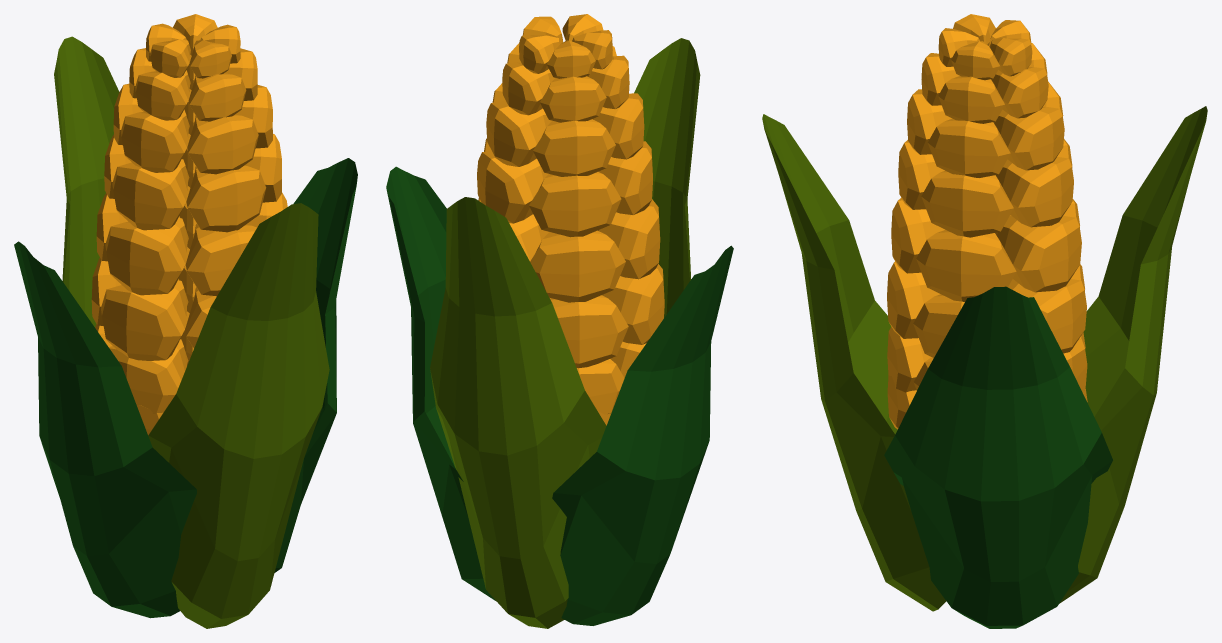
The model's file is corn.fbx.
The picture shows the model from 3 angles, left to right: view 1: azimuth 30°, elevation 25°; view 2: azimuth 150°, elevation 25°; view 3: azimuth 270°, elevation 25°; orthographic projection.
Visible parts, largest first — view 1: Cylinder.001, Cylinder, Cube.034, Cube.004, Cube.022, Cube.024, Cube.012, Cube.014, Cube.001, Cube.044, Cube.052, Cube.054 (+15 smaller); view 2: Cylinder.001, Cylinder, Cube.006, Cube.026, Cube.036, Cube.016, Cube.028, Cube.018, Cube.034, Cube.004, Cube.056, Cube.024 (+11 smaller); view 3: Cylinder, Cylinder.001, Cube.010, Cube.008, Cube.030, Cube.028, Cube.020, Cube.018, Cube.038, Cube.060, Cube.032, Cube.001 (+13 smaller).
Boxes of the visible parts, x1,y1,x2,y2 form: Cylinder.001: [54, 36, 329, 628]; Cylinder: [14, 158, 357, 618]; Cube.034: [101, 280, 188, 360]; Cube.004: [105, 218, 188, 295]; Cube.022: [186, 165, 266, 232]; Cube.024: [112, 159, 189, 230]; Cube.012: [187, 114, 258, 174]; Cube.014: [120, 109, 189, 172]; Cube.001: [185, 224, 256, 296]; Cube.044: [108, 339, 188, 413]; Cube.052: [188, 73, 246, 121]; Cube.054: [135, 70, 190, 120]; Cylinder.001: [430, 38, 700, 628]; Cylinder: [386, 166, 733, 625]; Cube.006: [530, 230, 625, 302]; Cube.026: [529, 172, 621, 237]; Cube.036: [550, 295, 628, 368]; Cube.016: [533, 119, 615, 176]; Cube.028: [477, 151, 548, 223]; Cube.018: [486, 101, 551, 166]; Cube.034: [602, 264, 664, 344]; Cube.004: [598, 199, 660, 279]; Cube.056: [540, 76, 606, 122]; Cube.024: [598, 141, 652, 214]; Cylinder: [884, 286, 1112, 628]; Cylinder.001: [762, 106, 1207, 611]; Cube.010: [916, 230, 1016, 301]; Cube.008: [995, 216, 1081, 292]; Cube.030: [921, 170, 1013, 237]; Cube.028: [995, 157, 1073, 227]; Cube.020: [928, 118, 1010, 177]; Cube.018: [993, 107, 1064, 170]; Cube.038: [1008, 279, 1086, 353]; Cube.060: [938, 76, 1004, 123]; Cube.032: [887, 261, 940, 338]; Cube.001: [891, 198, 944, 273].
Size of the model in its own units: 221 by 366 by 256.
